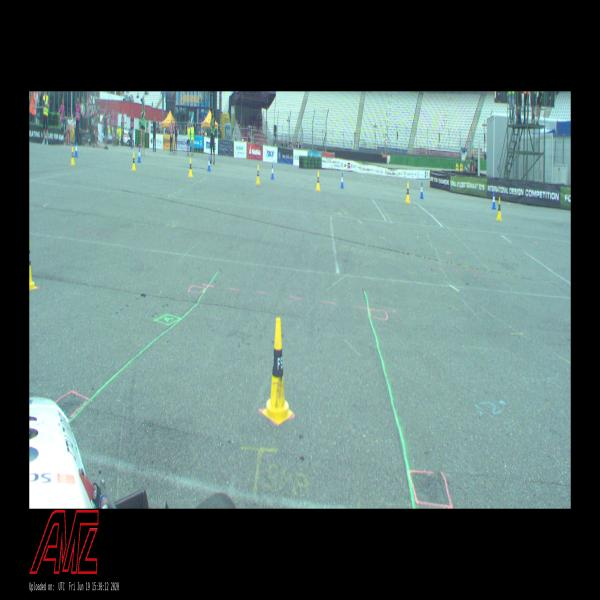blue_cone: (492, 191, 496, 209), (420, 182, 424, 199), (207, 156, 211, 172), (340, 173, 344, 188), (74, 142, 78, 157), (137, 148, 141, 163), (271, 164, 274, 180)
yellow_cone: (262, 318, 293, 424), (29, 234, 37, 290), (496, 197, 502, 220), (188, 158, 193, 177), (405, 183, 410, 202), (256, 165, 260, 185), (316, 171, 320, 191), (132, 152, 136, 171), (71, 147, 75, 165)
